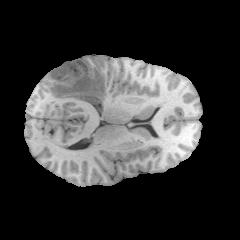glioma: (47, 59, 107, 105)
